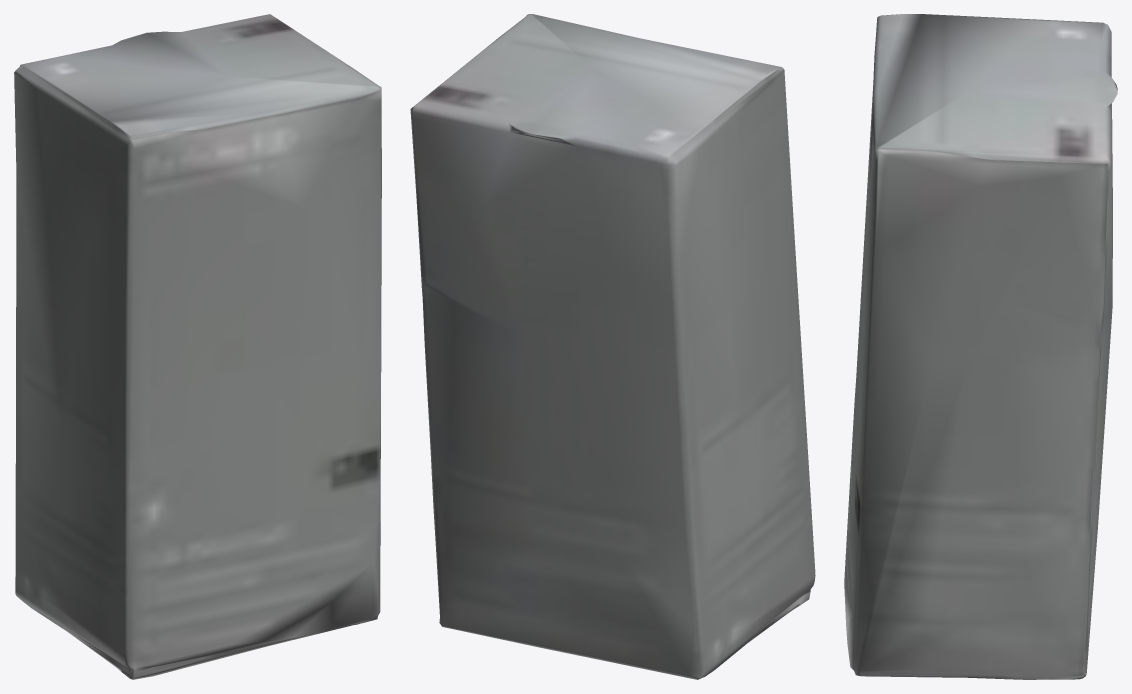
File: Perricone_MD_Cold_Plasma_Body-medium.glb
3 renders of one model, left to right at view 1: azimuth 30°, elevation 25°; view 2: azimuth 150°, elevation 25°; view 3: azimuth 270°, elevation 25°, orthographic. The views are drawn at different scales.
Visible parts, largest first — view 1: Perricone_MD_Cold_Plasma_Body; view 2: Perricone_MD_Cold_Plasma_Body; view 3: Perricone_MD_Cold_Plasma_Body.
Part boxes in pixels (bbox=[...]): Perricone_MD_Cold_Plasma_Body: bbox=[14, 14, 381, 679]; Perricone_MD_Cold_Plasma_Body: bbox=[410, 14, 815, 679]; Perricone_MD_Cold_Plasma_Body: bbox=[844, 14, 1117, 679].
Bounding box in the file's own units: 0.0845 × 0.1584 × 0.0714.
1 material, 1 textured.
